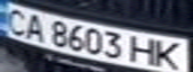0: (81, 26, 106, 56)
3: (103, 29, 127, 61)
6: (63, 22, 87, 52)
8: (45, 18, 72, 48)
A: (21, 11, 48, 43)
C: (0, 6, 33, 36)
H: (127, 34, 160, 66)
K: (151, 38, 187, 71)
